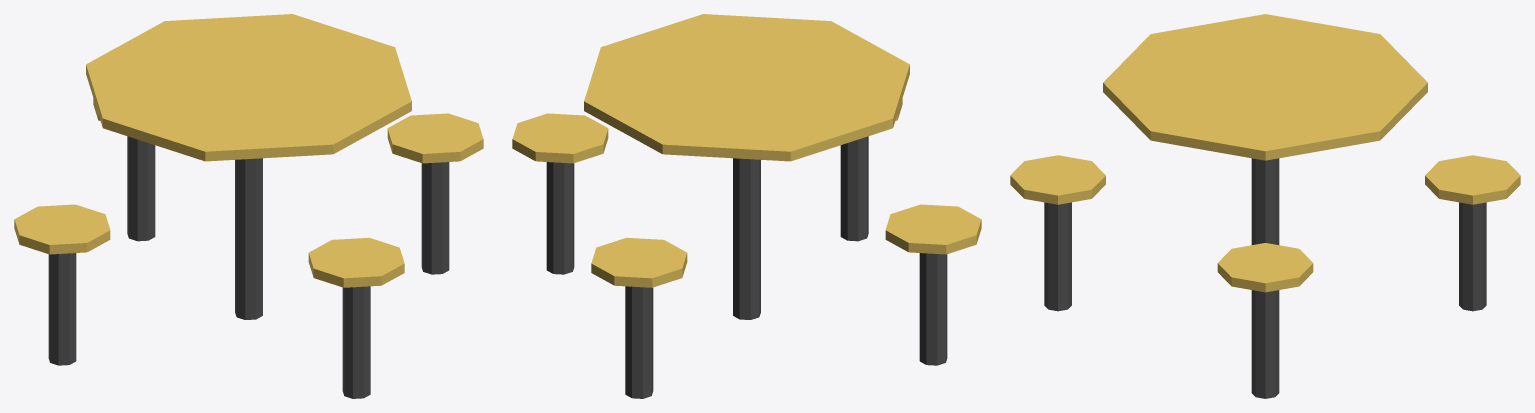
File: Table_01.fbx
The picture shows the model from 3 angles, left to right: view 1: azimuth 30°, elevation 25°; view 2: azimuth 150°, elevation 25°; view 3: azimuth 270°, elevation 25°; orthographic projection. The views are drawn at different scales.
Parts seen in each view (by area): view 1: Cylindre_5; view 2: Cylindre_5; view 3: Cylindre_5.
Part boxes in pixels (bbox=[...]): Cylindre_5: bbox=[14, 14, 483, 398]; Cylindre_5: bbox=[512, 14, 981, 398]; Cylindre_5: bbox=[1010, 14, 1520, 398].
Size of the model in its own units: 148 by 71.14 by 148.
Materials: 1 (1 with a texture image).
